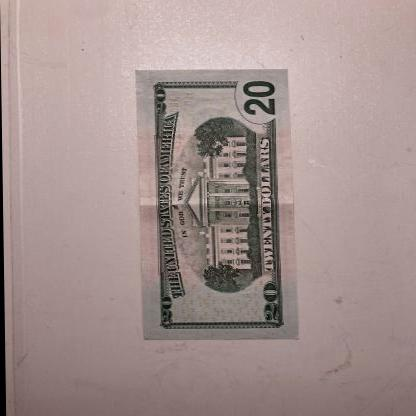twenty-back: (132, 67, 299, 341)
